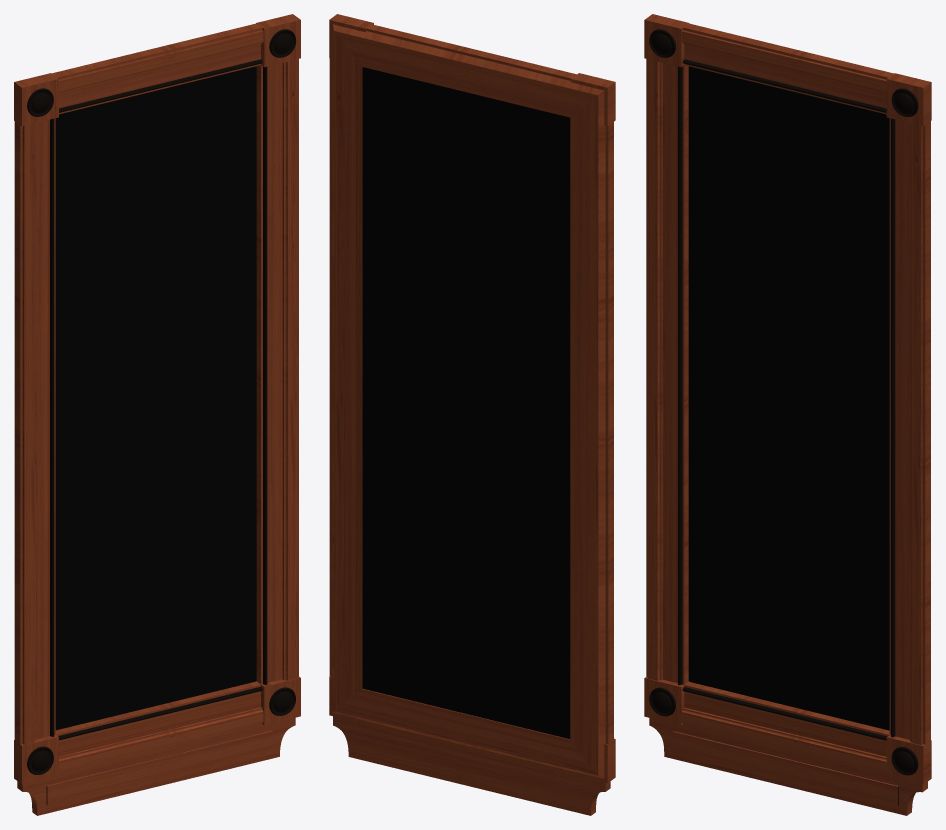
The model's file is Mirror_02.FBX.fbx.
3 views of the same model, side by side, from view 1: azimuth 30°, elevation 25°; view 2: azimuth 150°, elevation 25°; view 3: azimuth 330°, elevation 25° (orthographic).
Parts seen in each view (by area): view 1: Mirror_01; view 2: Mirror_01; view 3: Mirror_01.
Part boxes in pixels (x1,y1,x2,y2): Mirror_01: (14, 14, 300, 815); Mirror_01: (329, 14, 615, 815); Mirror_01: (644, 14, 931, 815).
Bounding box in the file's own units: 53.79 × 135 × 4.15.
3 materials, 1 textured.
